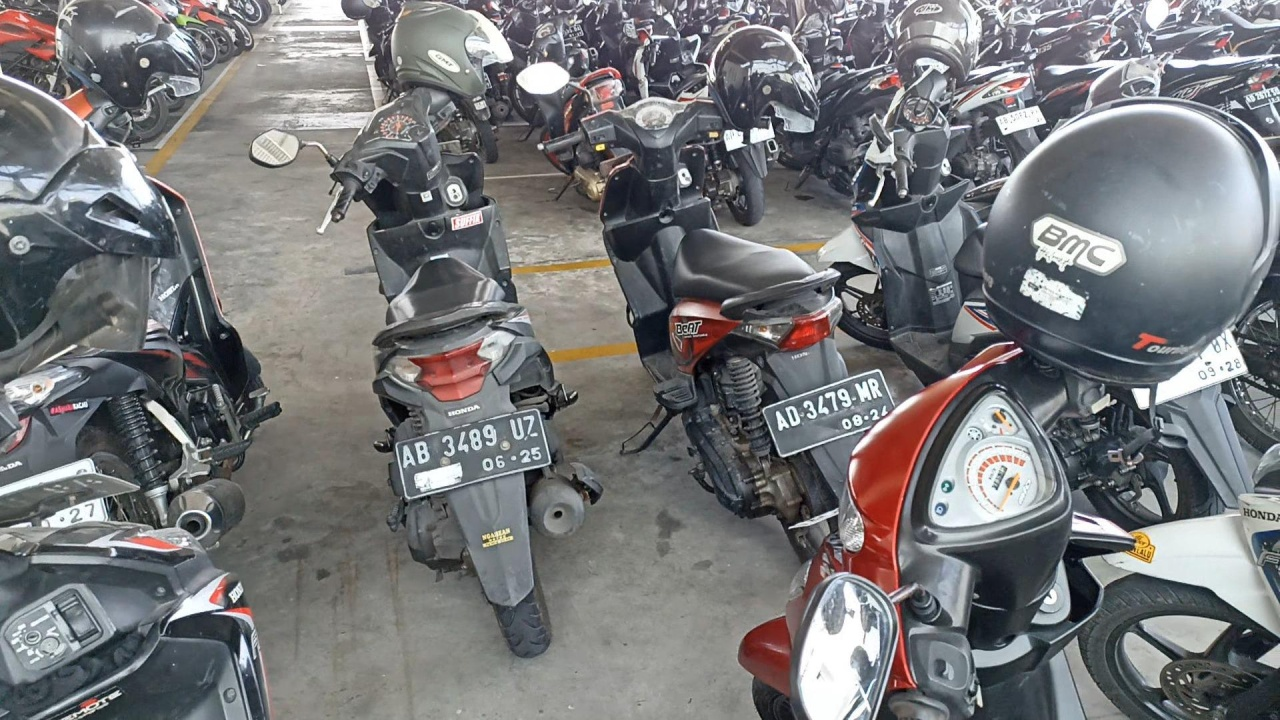plate: (395, 408, 552, 500), (762, 370, 900, 458)
